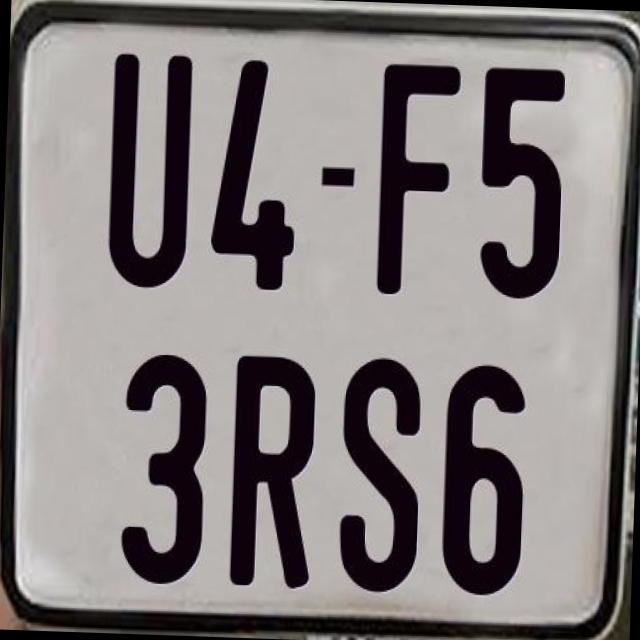3: (118, 354, 216, 594)
4: (206, 54, 298, 287)
5: (477, 66, 568, 302)
6: (440, 360, 528, 594)
F: (373, 58, 460, 296)
R: (226, 350, 314, 590)
S: (333, 354, 427, 594)
U: (106, 54, 197, 298)
